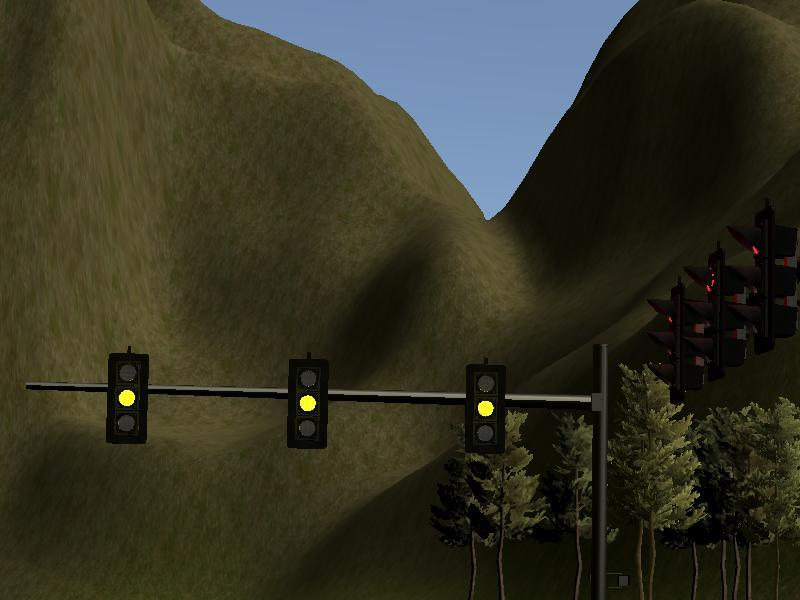Yellow: (286, 358, 327, 447), (107, 353, 147, 442), (466, 365, 506, 454)
